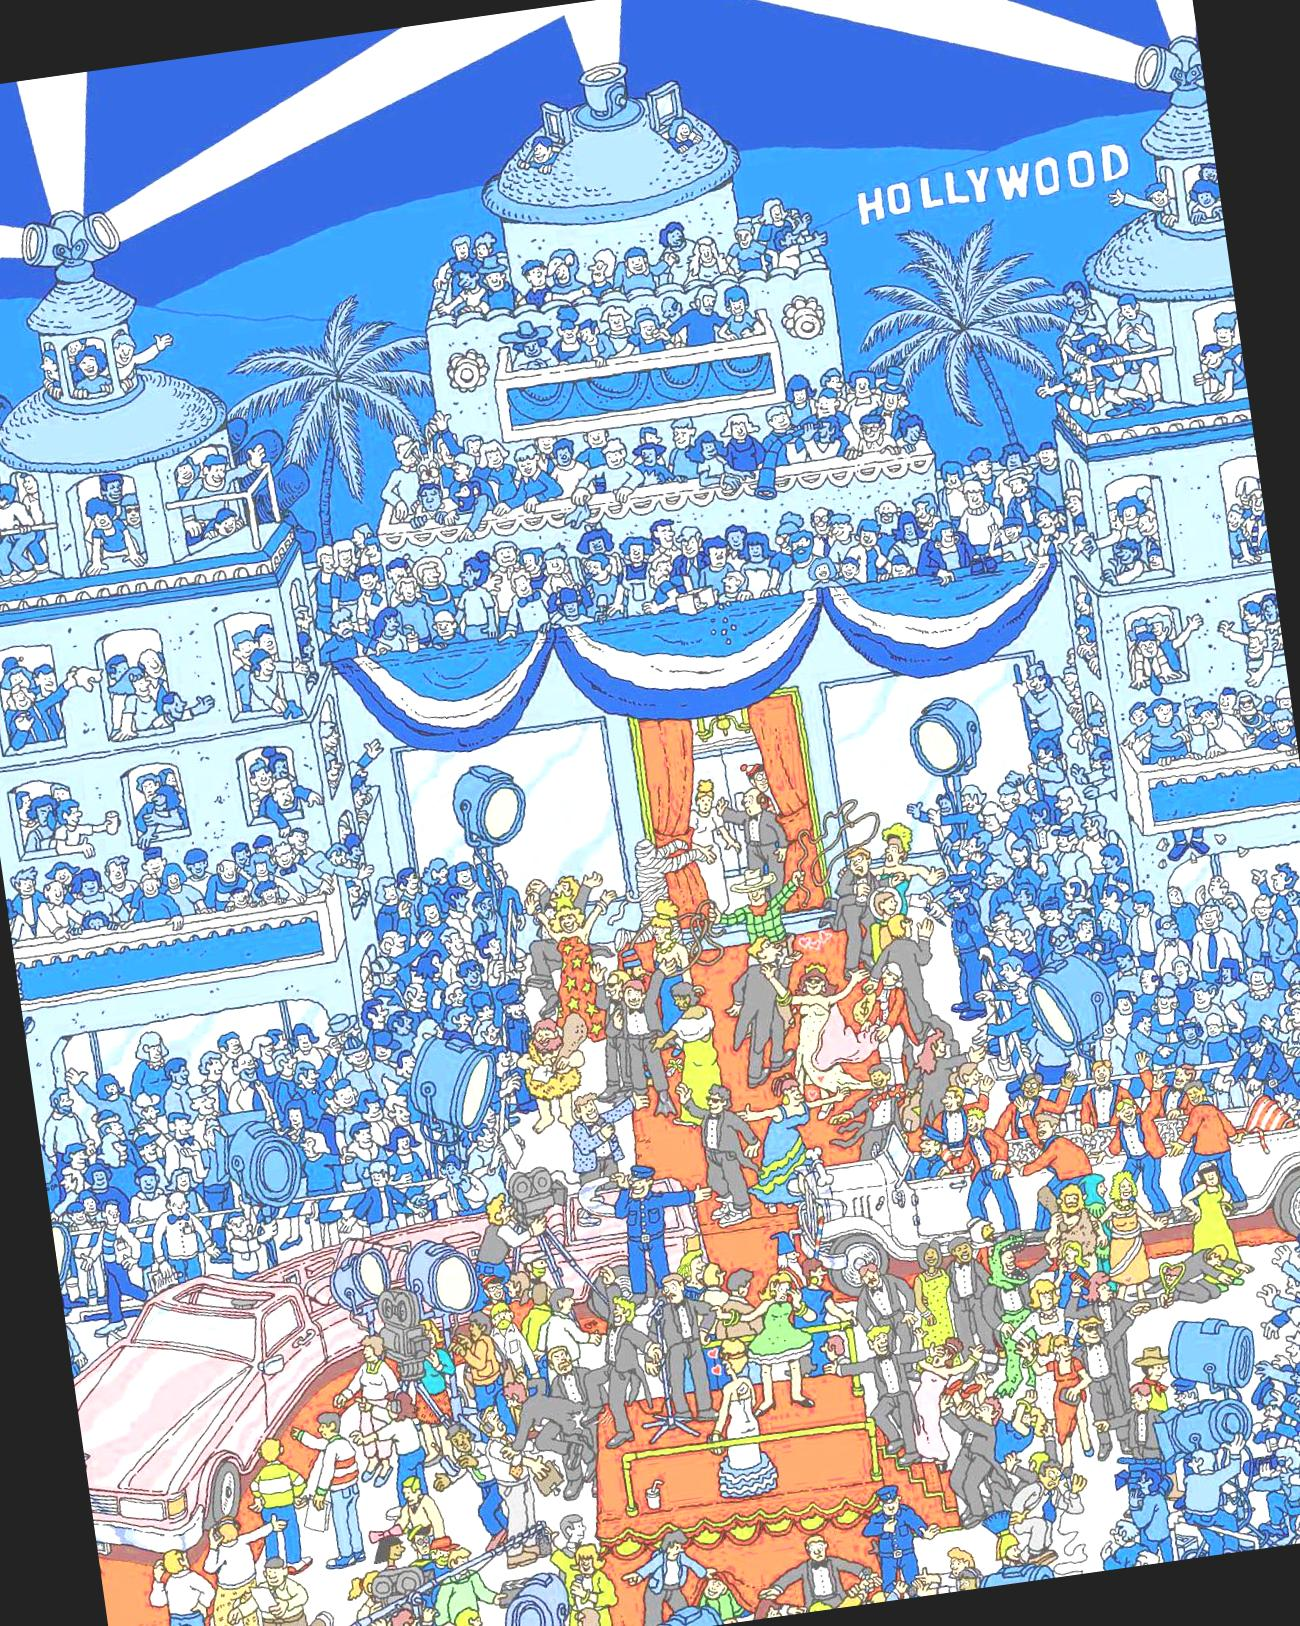waldo: (739, 760, 769, 794)
